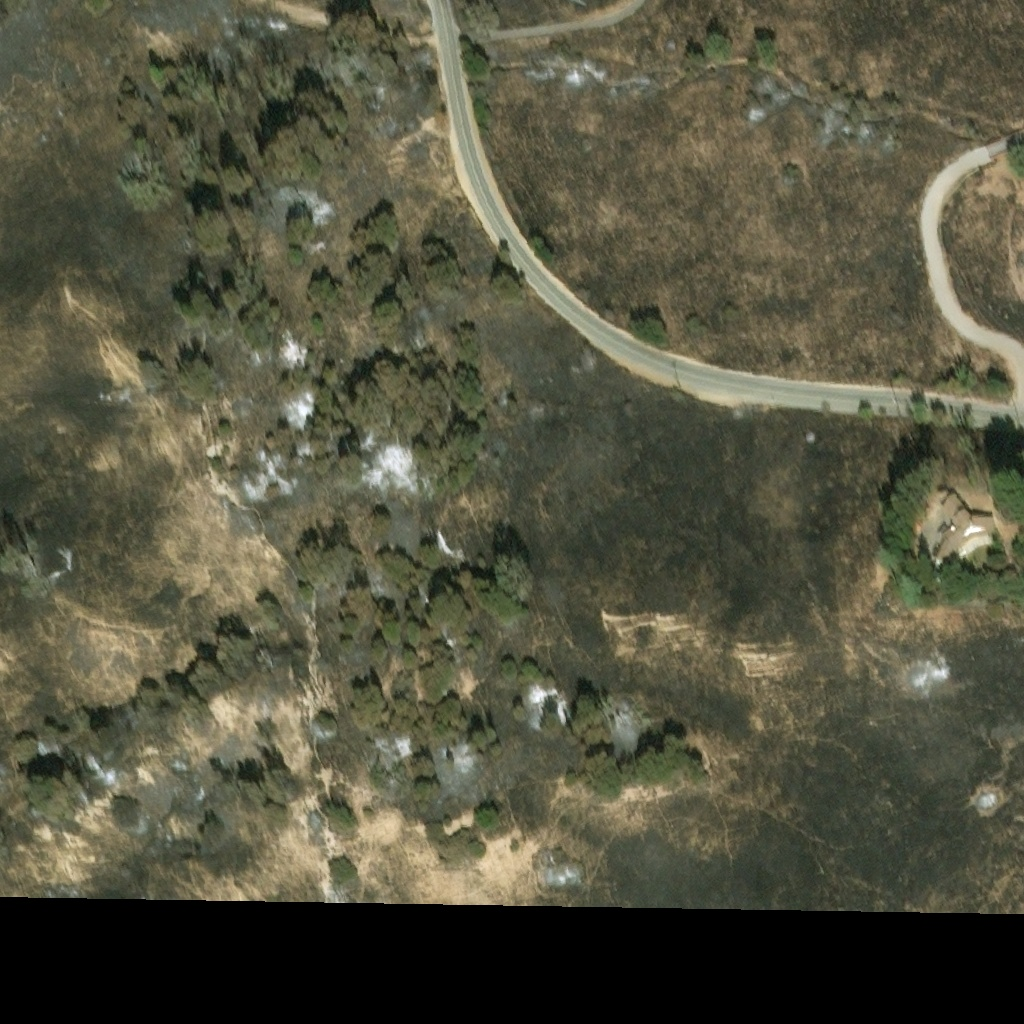0 no-damage: (930, 496, 992, 573)
